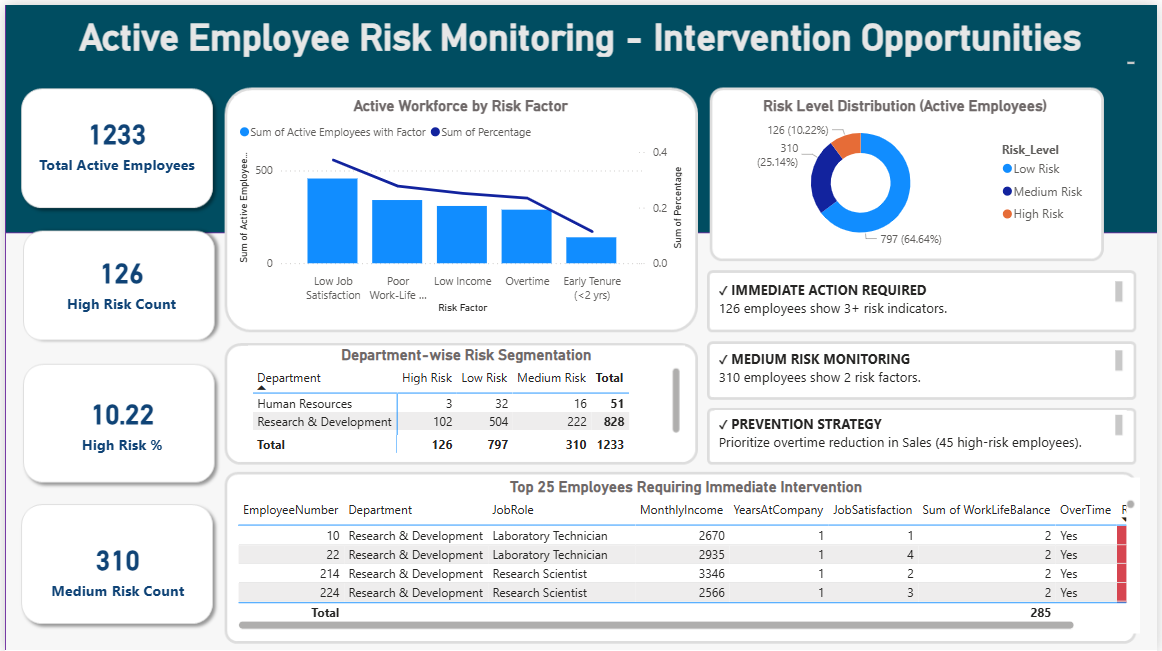

The dashboard page shown, as its layout file describes it:
{"tool":"powerbi","page":{"name":"Active Employees Risk Assessment","canvas":[1280,720],"ordinal":2},"visuals":[{"type":"textbox","title":"Active Employee Risk Monitoring - Intervention Opportunities","box":[18.5,11.8,1241.9,58.8],"z":0},{"type":"card","fields":{"Values":["metrics.Medium Risk Count"]},"box":[43.3,571.7,163.3,106.7],"z":1000},{"type":"card","fields":{"Values":["metrics.Total Active Employees"]},"box":[30,101.7,188.3,100],"z":2000},{"type":"card","fields":{"Values":["metrics.High Risk Count"]},"box":[51.7,253.3,155,106.7],"z":3000},{"type":"card","fields":{"Values":["metrics.High Risk Percentage"]},"box":[48.3,406.7,163.3,113.3],"z":4000},{"type":"donutChart","title":"Risk Level Distribution (Active Employees)","fields":{"Category":["active_employees_risk_scores.Risk_Level"],"Y":["CountNonNull(active_employees_risk_scores.EmployeeNumber)"]},"box":[788.9,101.8,423.1,171.8],"z":5000},{"type":"pivotTable","title":"Department-wise Risk Segmentation","fields":{"Rows":["active_employees_risk_scores.Department"],"Columns":["active_employees_risk_scores.Risk_Level"],"Values":["CountNonNull(active_employees_risk_scores.EmployeeNumber)"]},"box":[270.4,378.6,485.1,124.1],"z":6000},{"type":"tableEx","title":"Top 25 Employees Requiring Immediate Intervention","fields":{"Values":["active_employees_risk_scores.EmployeeNumber","active_employees_risk_scores.Department","active_employees_risk_scores.JobRole","active_employees_risk_scores.MonthlyIncome","active_employees_risk_scores.YearsAtCompany","active_employees_risk_scores.JobSatisfaction","Sum(active_employees_risk_scores.WorkLifeBalance)","active_employees_risk_scores.OverTime","active_employees_risk_scores.Risk_Score"]},"box":[252.9,524.9,1006.9,173.4],"z":7000},{"type":"lineStackedColumnComboChart","title":"Active Workforce by Risk Factor","fields":{"Category":["Top Risk Factors.Risk Factor"],"Y":["Sum(Top Risk Factors.Active Employees with Factor)"],"Y2":["Sum(Top Risk Factors.Percentage)"]},"box":[254.5,101.8,502.6,245],"z":8000},{"type":"textbox","box":[788.9,302.2,458.1,57.3],"z":9000},{"type":"textbox","box":[788.9,378.6,458.1,57.3],"z":10000},{"type":"textbox","box":[788.9,450.1,458.1,52.5],"z":11000}]}

Visuals, with their boxes in screenshot pixels (x1, y1, x2, y2), scaled from the page's 1280x720 canvas onto the 1162x651 screenshot:
"Active Employee Risk Monitoring - Intervention Opportunities" textbox: select_region(17, 11, 1144, 64)
card - metrics.Medium Risk Count: select_region(39, 517, 188, 613)
card - metrics.Total Active Employees: select_region(27, 92, 198, 182)
card - metrics.High Risk Count: select_region(47, 229, 188, 326)
card - metrics.High Risk Percentage: select_region(44, 368, 192, 470)
"Risk Level Distribution (Active Employees)" donutChart: select_region(716, 92, 1100, 247)
"Department-wise Risk Segmentation" pivotTable: select_region(245, 342, 686, 455)
"Top 25 Employees Requiring Immediate Intervention" tableEx: select_region(230, 475, 1144, 631)
"Active Workforce by Risk Factor" lineStackedColumnComboChart: select_region(231, 92, 687, 314)
textbox: select_region(716, 273, 1132, 325)
textbox: select_region(716, 342, 1132, 394)
textbox: select_region(716, 407, 1132, 454)
